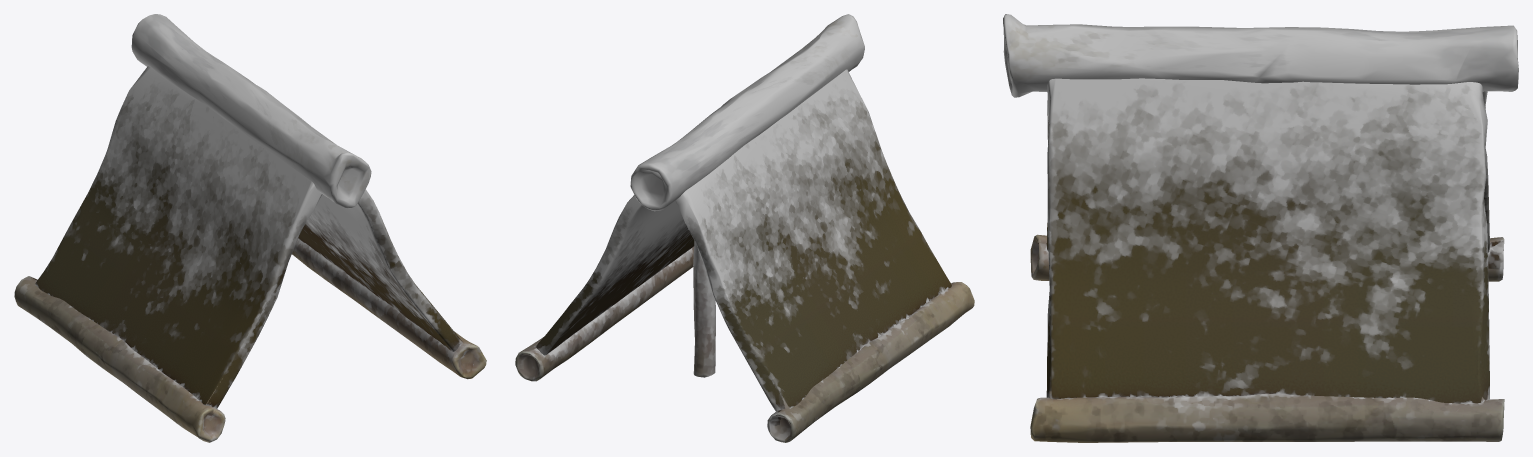
Rendered from tent2.glb.
3 views of the same model, side by side, from view 1: azimuth 30°, elevation 25°; view 2: azimuth 150°, elevation 25°; view 3: azimuth 270°, elevation 25° (orthographic). The views are drawn at different scales.
Parts seen in each view (by area): view 1: tent2; view 2: tent2; view 3: tent2.
Boxes of the visible parts, bbox=[...] form: tent2: bbox=[14, 14, 486, 442]; tent2: bbox=[515, 14, 974, 442]; tent2: bbox=[1003, 14, 1518, 442].
Bounding box in the file's own units: 26.61 × 23.5 × 32.06.
Materials: 1 (1 with a texture image).
